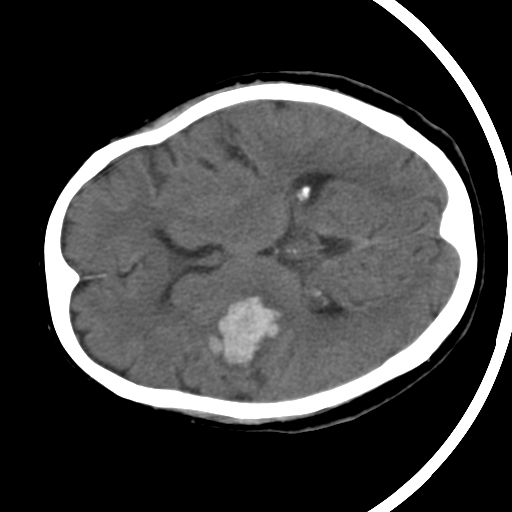a: (192, 277, 298, 380)
